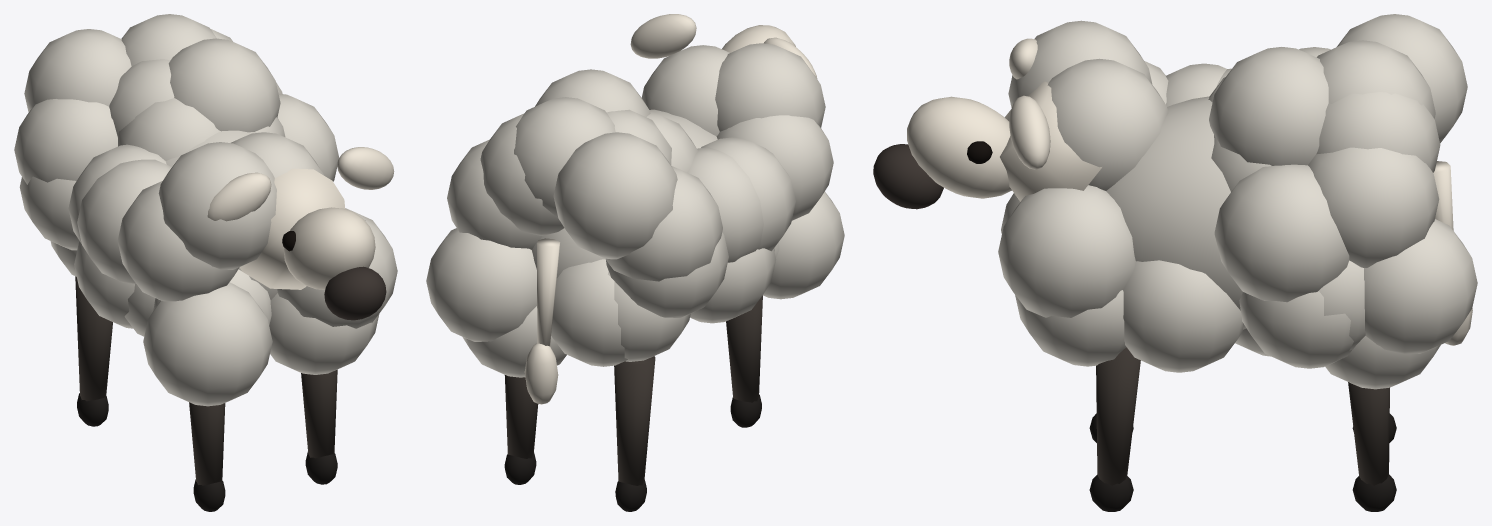
Rendered from sheep.glb.
3 renders of one model, left to right at view 1: azimuth 30°, elevation 25°; view 2: azimuth 150°, elevation 25°; view 3: azimuth 270°, elevation 25°, orthographic. The views are drawn at different scales.
Parts seen in each view (by area): view 1: sheep; view 2: sheep; view 3: sheep.
Part boxes in pixels (x1,y1,x2,y2): sheep: [14, 14, 397, 511]; sheep: [426, 14, 844, 511]; sheep: [873, 14, 1477, 511].
Bounding box in the file's own units: 0.9344 × 1.24 × 1.54.
